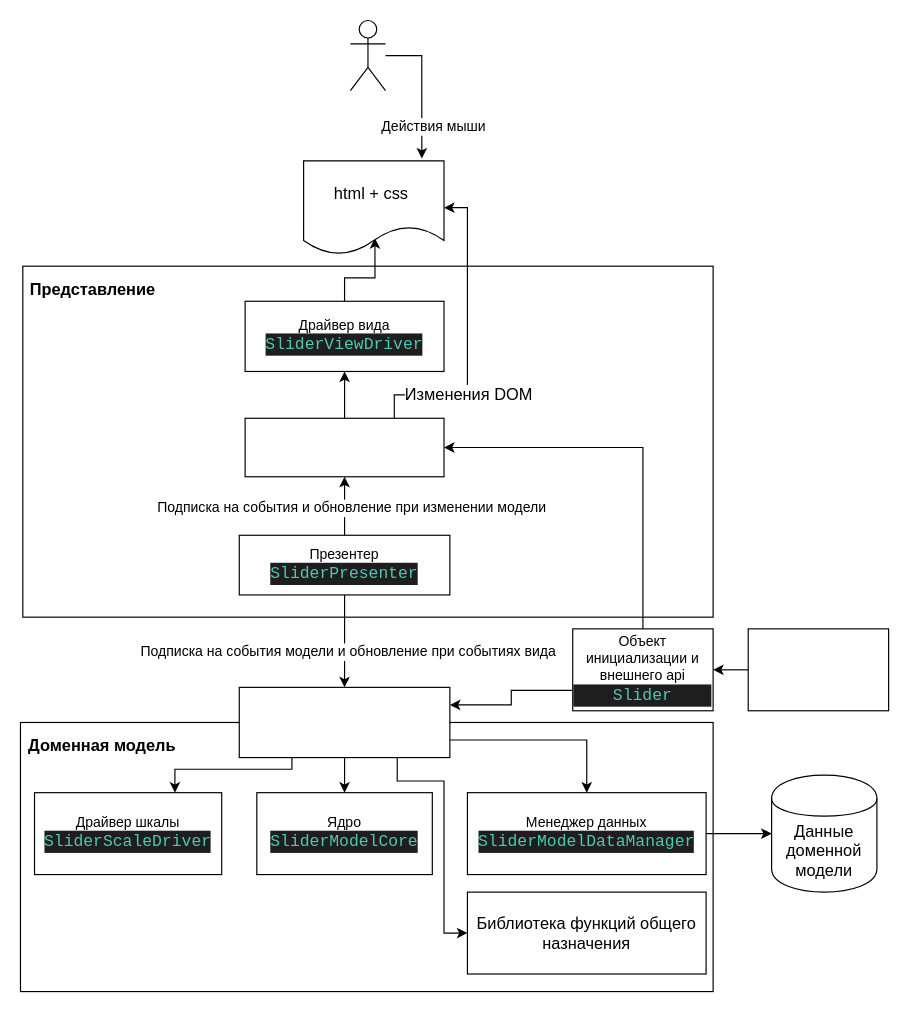
This 909x1021 diagram has some shape labels left out. Here are the shapes that lost their labels. From the top down, the centre of each, then its label:
[367,55]: User
[344,447]: Вид SliderView
[818,669]: Плагин
[344,722]: Модель SliderModel
